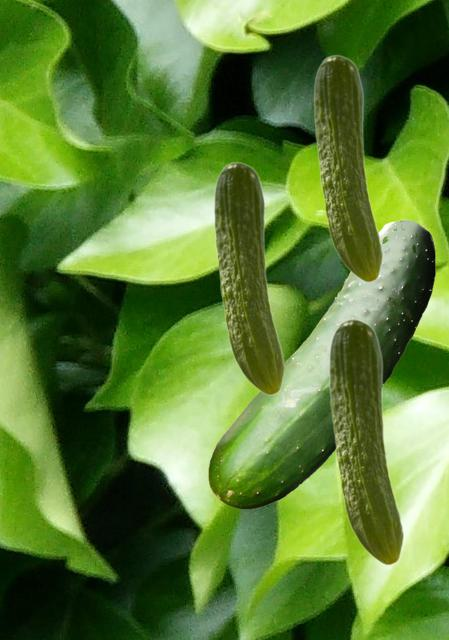cucumber: (208, 219, 434, 508), (328, 318, 403, 565), (213, 161, 284, 395), (313, 54, 382, 282)
